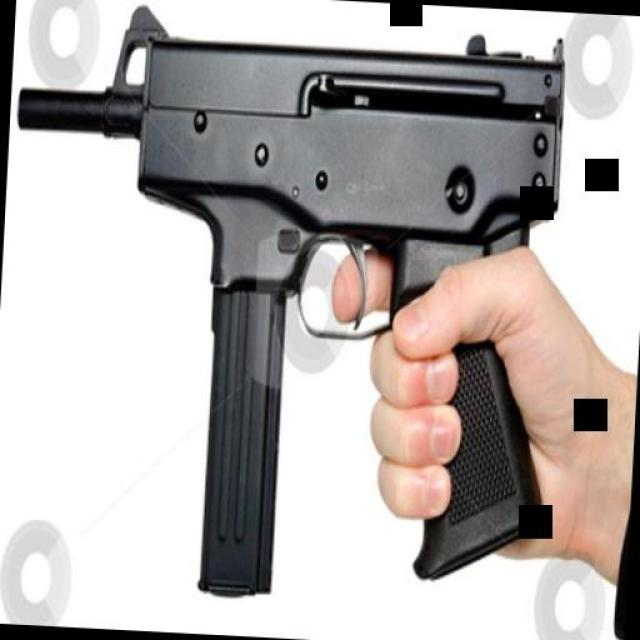gun: (95, 8, 566, 572)
